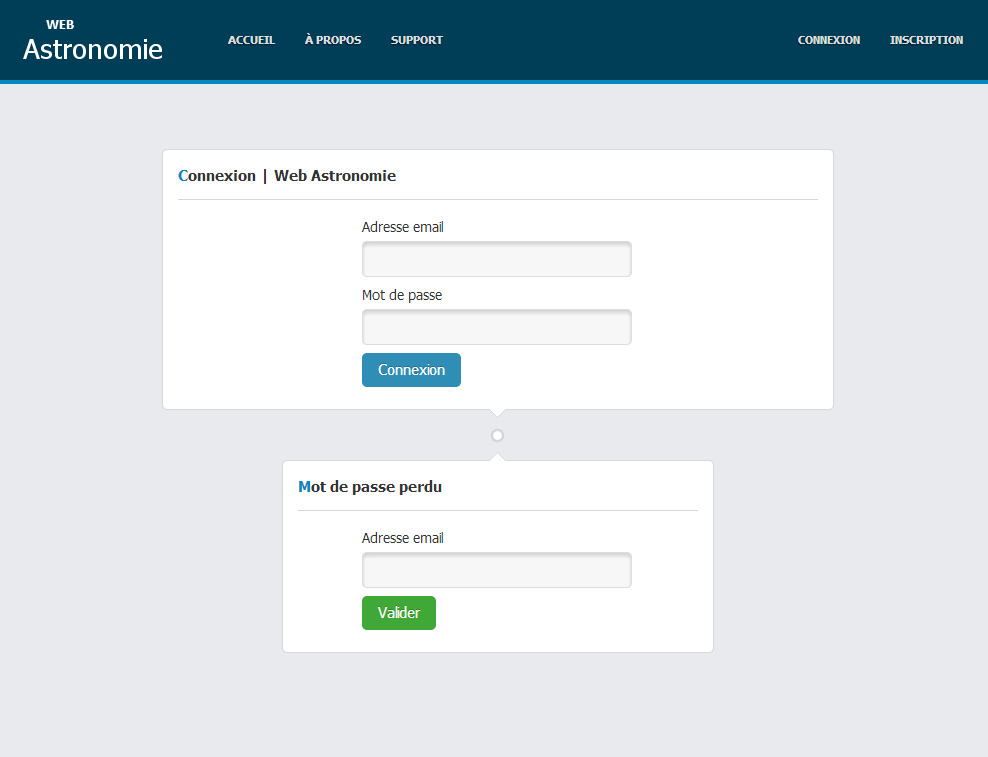_form_: (281, 216, 697, 633)
button: (358, 350, 462, 389), (359, 594, 440, 631)
field: (362, 238, 633, 282), (357, 306, 635, 348), (361, 548, 636, 590)
field_with_label: (357, 219, 635, 286), (355, 288, 638, 350), (359, 533, 639, 593)
